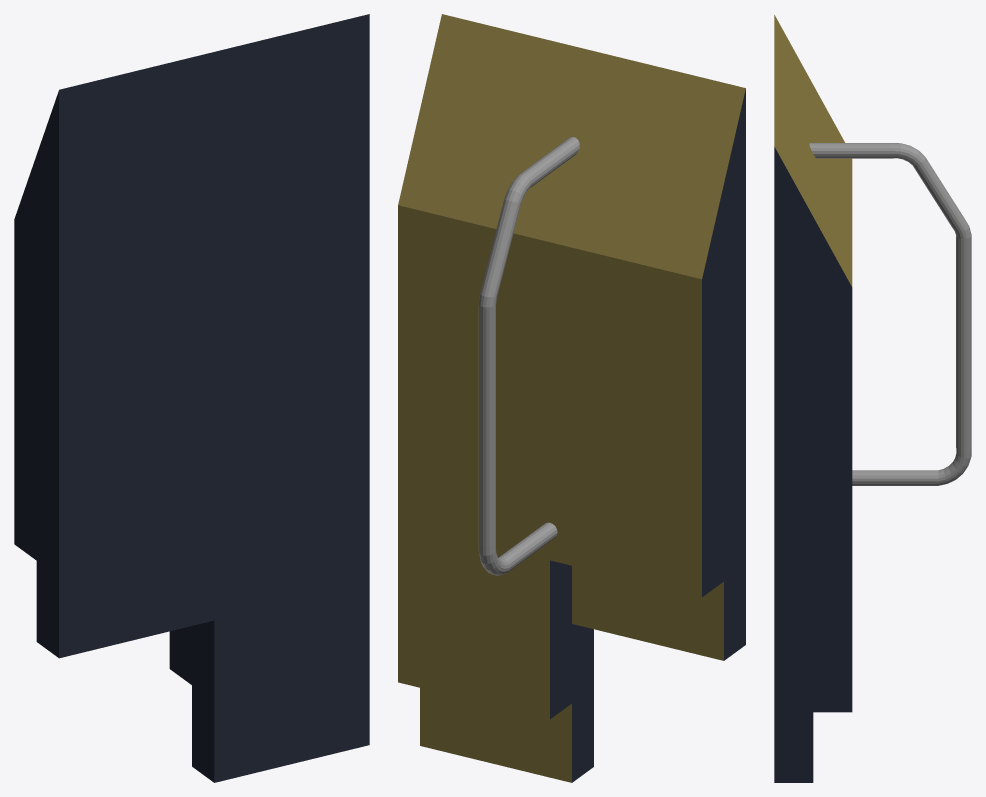
File: Box Offset Stair 2 W Railing Middle.fbx
3 views of the same model, side by side, from view 1: azimuth 30°, elevation 25°; view 2: azimuth 150°, elevation 25°; view 3: azimuth 270°, elevation 25° (orthographic). The views are drawn at different scales.
Parts seen in each view (by area): view 1: Box Offset Stair 2 W Railing Middle; view 2: Box Offset Stair 2 W Railing Middle; view 3: Box Offset Stair 2 W Railing Middle.
Boxes of the visible parts, x1,y1,x2,y2 form: Box Offset Stair 2 W Railing Middle: [14, 14, 369, 782]; Box Offset Stair 2 W Railing Middle: [398, 14, 745, 782]; Box Offset Stair 2 W Railing Middle: [774, 15, 971, 782].
Bounding box in the file's own units: 800 × 1800 × 506.
